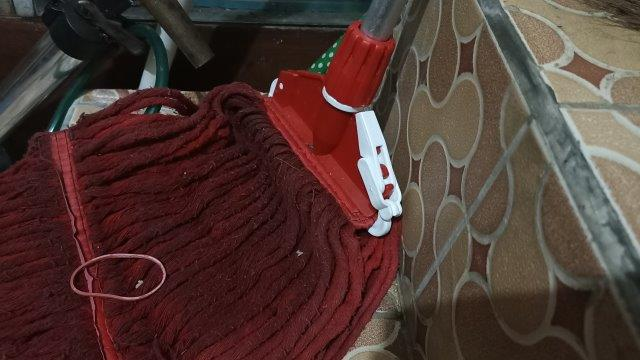karet: (69, 253, 166, 301)
